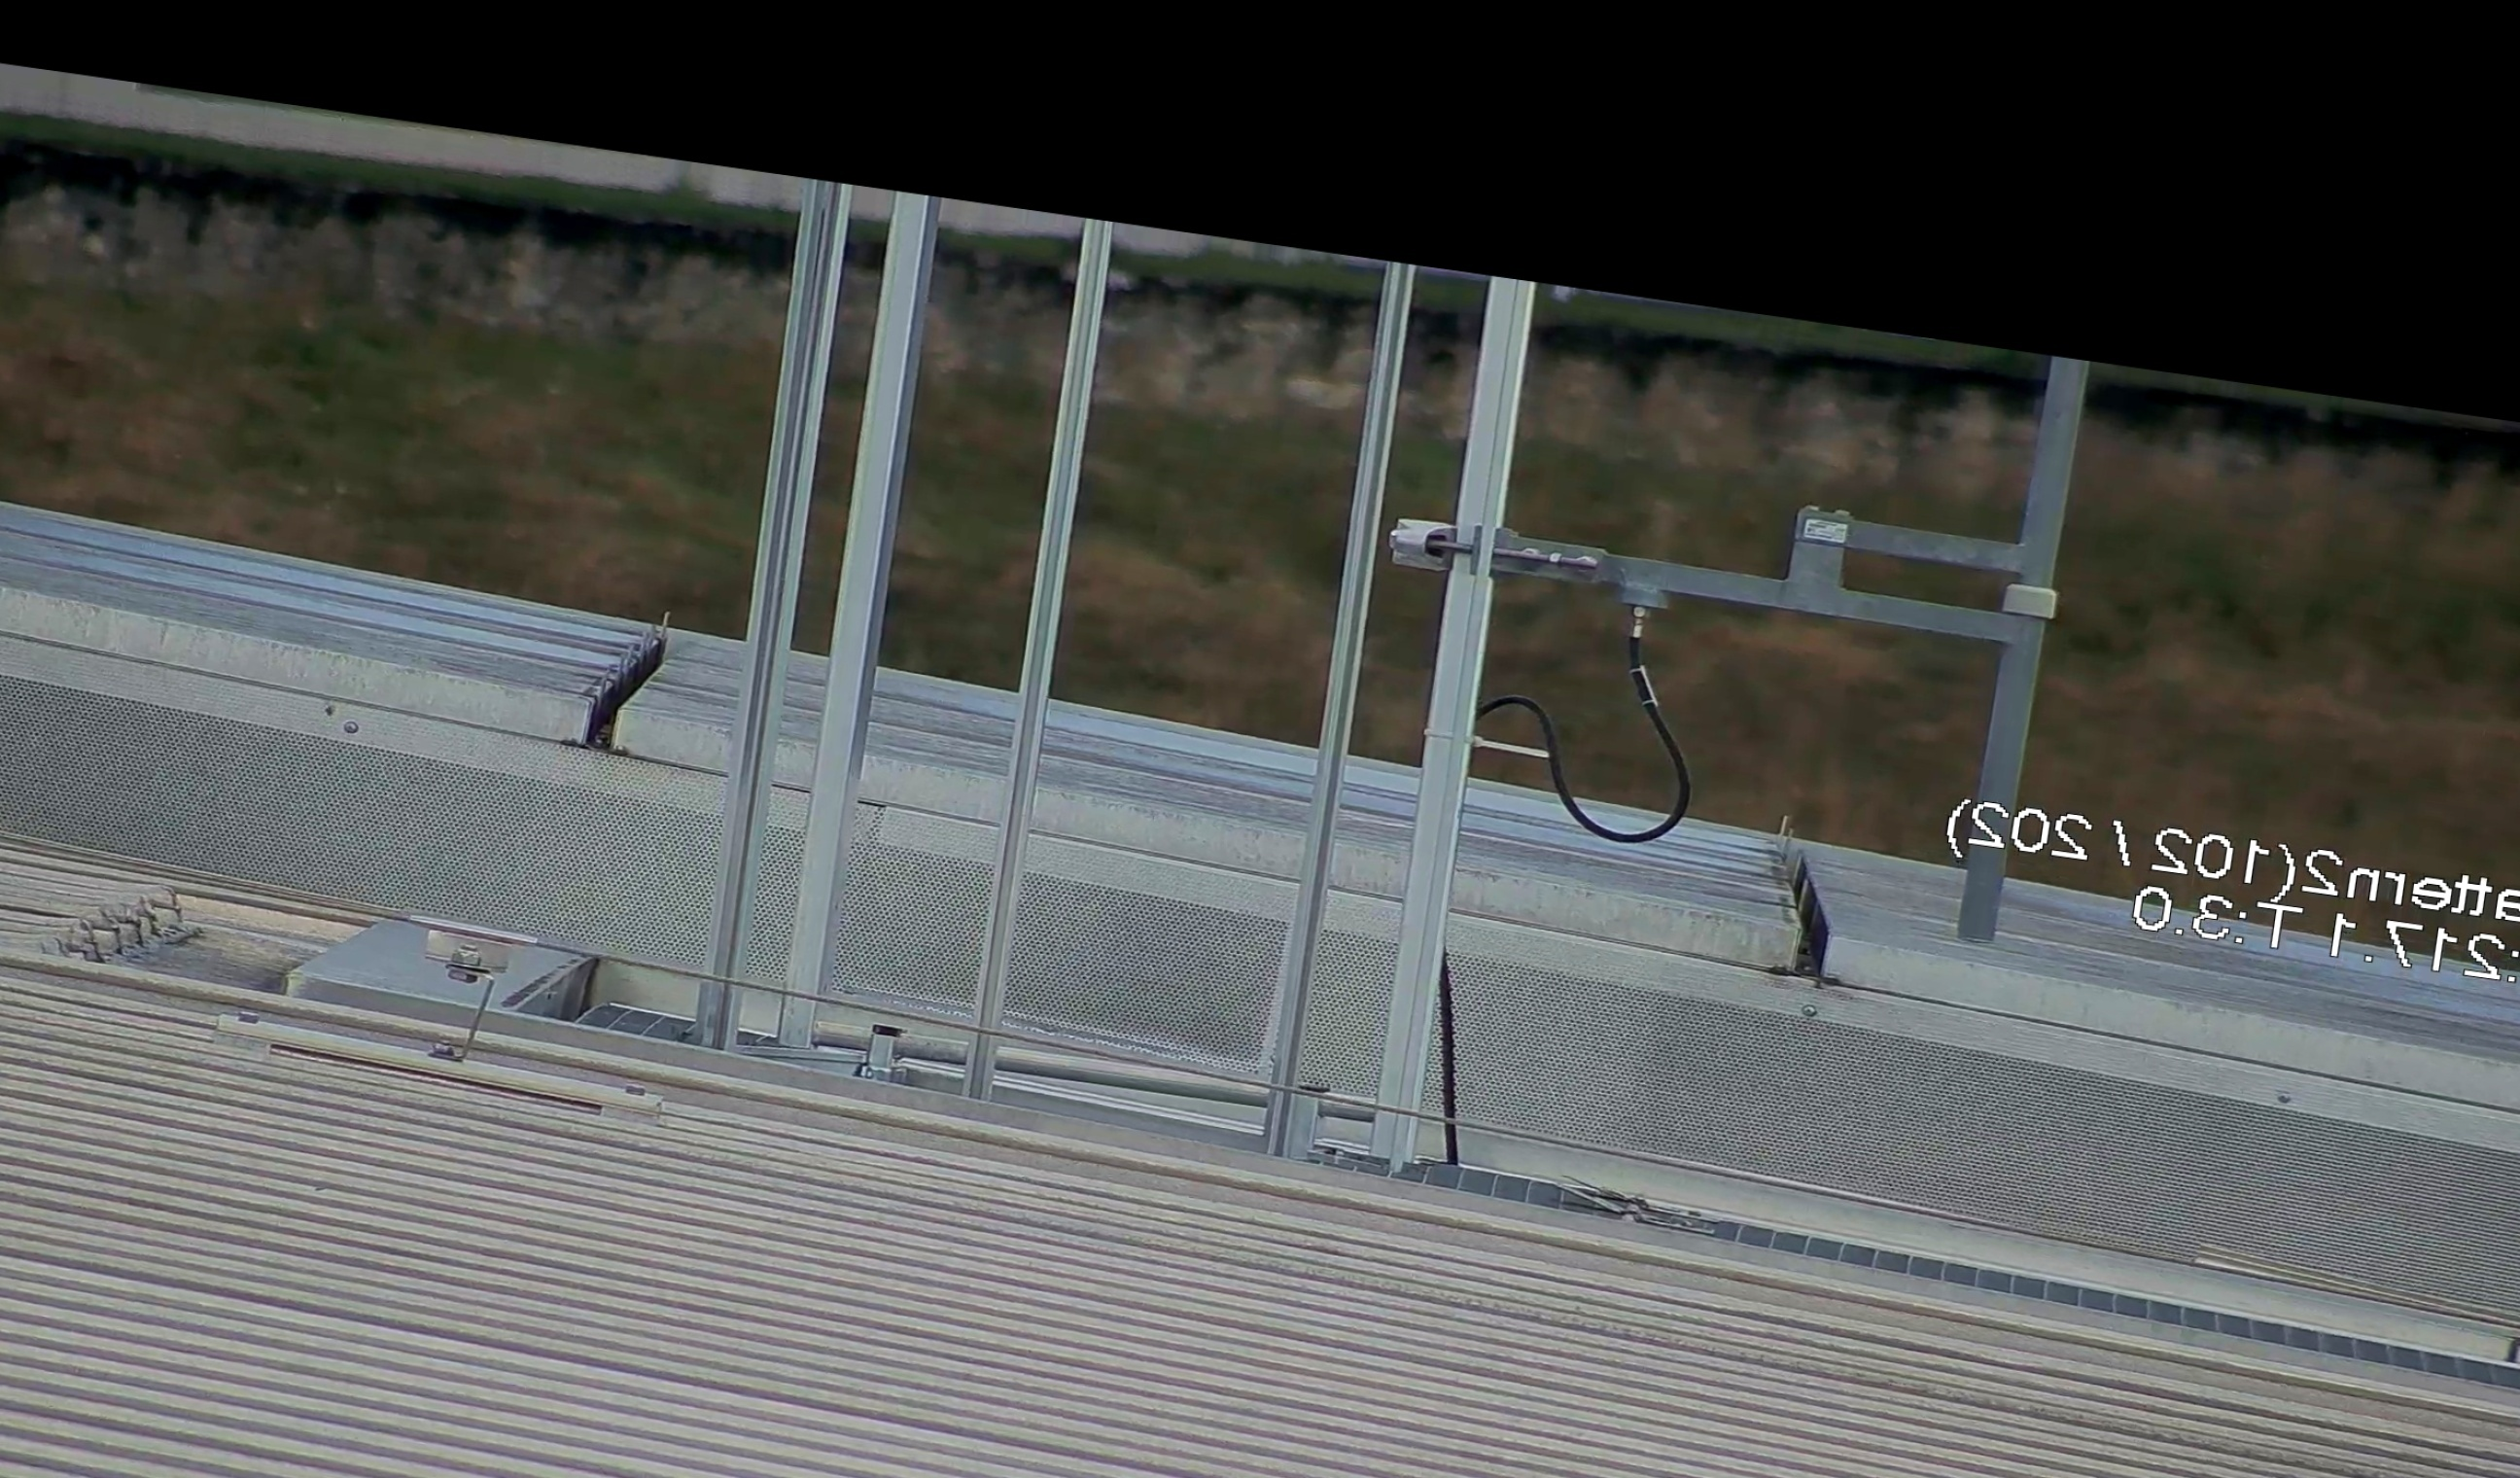Other: (554, 593, 684, 769)
